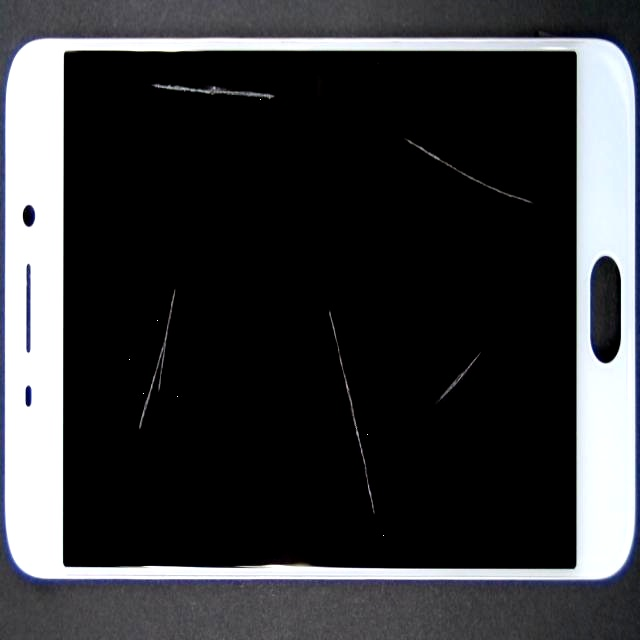scratch: (155, 164, 531, 640), (63, 220, 189, 640), (66, 56, 214, 168)
